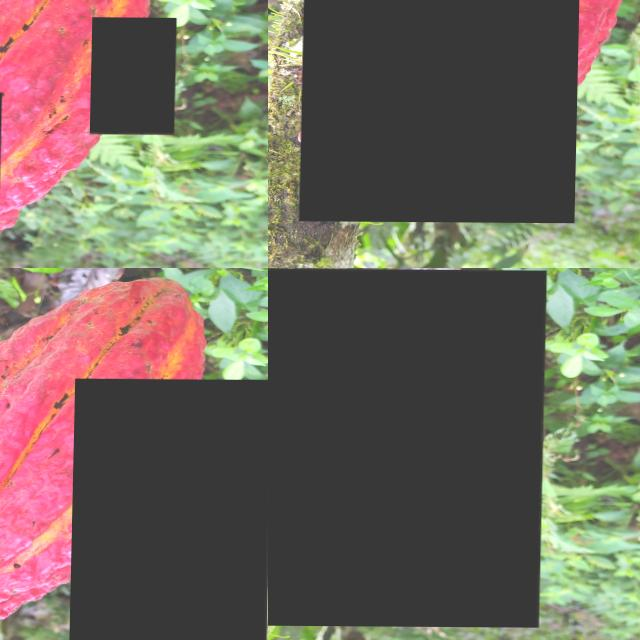Fitoftora: (91, 17, 177, 134)
Monilia: (70, 378, 268, 640)
Sana: (268, 268, 547, 626), (301, 0, 583, 222)
